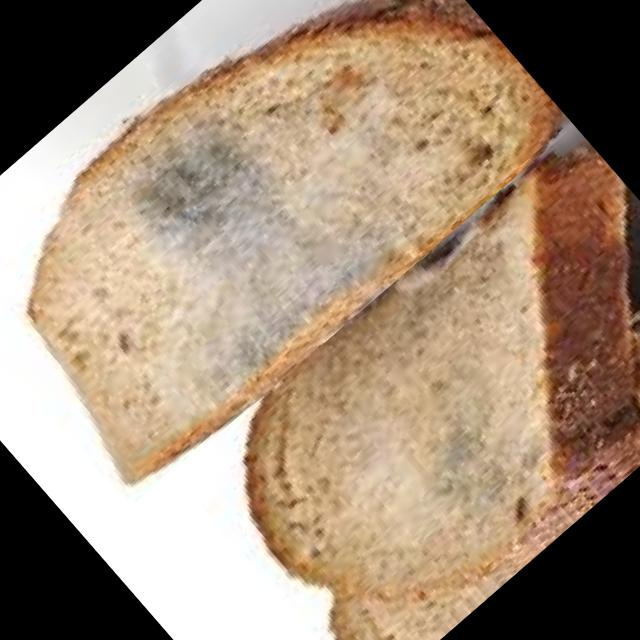Organic: (0, 0, 570, 501), (170, 124, 640, 640)
